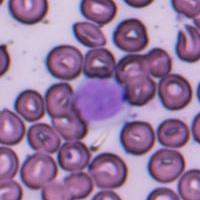L: (73, 78, 125, 126)
